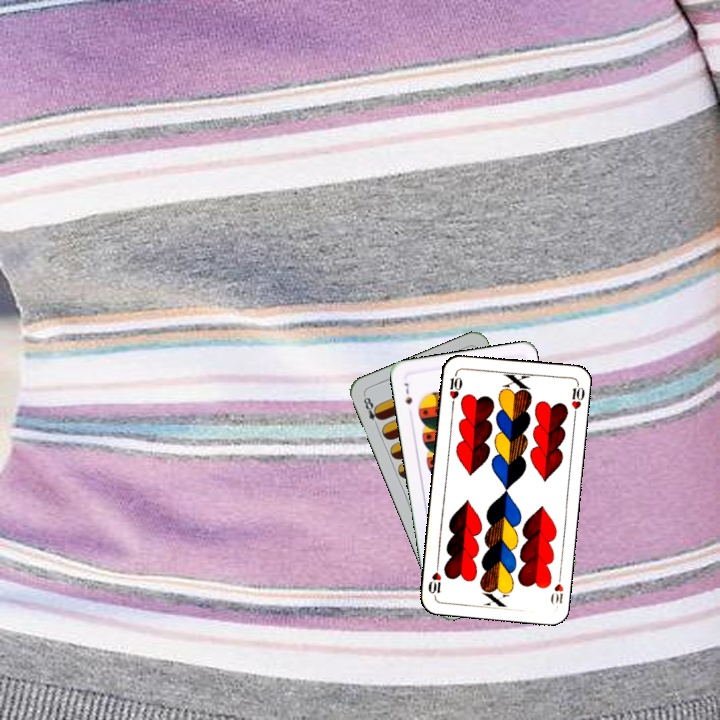E8: (359, 391, 384, 430)
H10: (445, 369, 464, 410), (547, 569, 566, 607)
S7: (400, 379, 415, 407)
